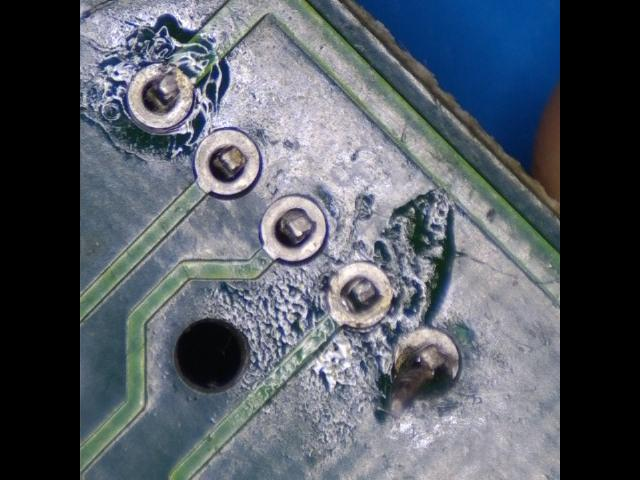Dry_joint: (395, 328, 460, 394), (330, 262, 392, 328)
